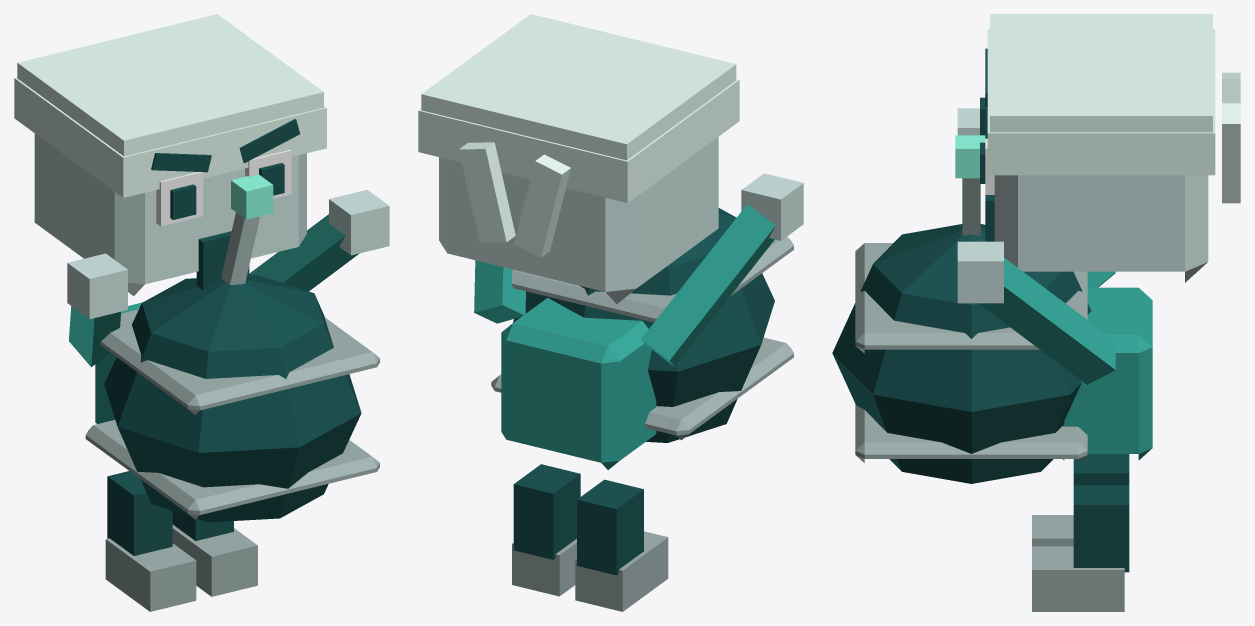
The model's file is kamikaze_r14.glb.
The picture shows the model from 3 angles, left to right: view 1: azimuth 30°, elevation 25°; view 2: azimuth 150°, elevation 25°; view 3: azimuth 270°, elevation 25°; orthographic projection. The views are drawn at different scales.
Visible parts, largest first — view 1: kamikaze_r14_mesh; view 2: kamikaze_r14_mesh; view 3: kamikaze_r14_mesh.
Boxes of the visible parts, x1,y1,x2,y2 form: kamikaze_r14_mesh: (14,14,389,611); kamikaze_r14_mesh: (418,14,803,611); kamikaze_r14_mesh: (832,14,1240,611).
Size of the model in its own units: 0.8211 by 1.3 by 0.9263.
1 material, 1 textured.
